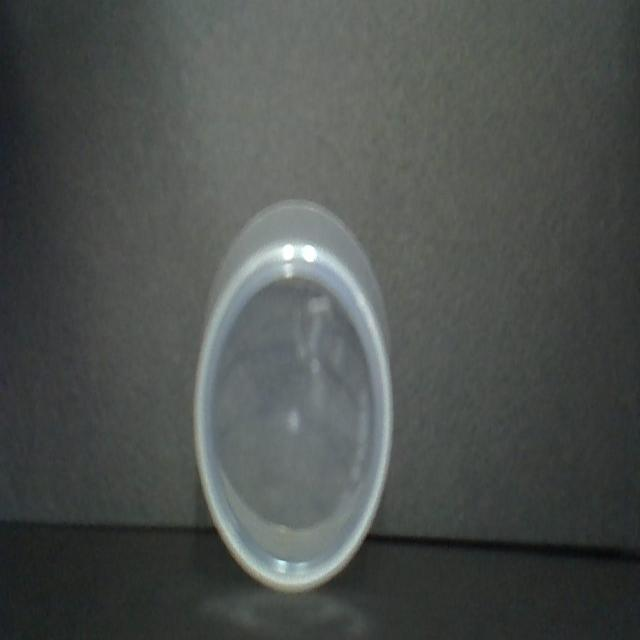cup: (190, 194, 400, 598)
